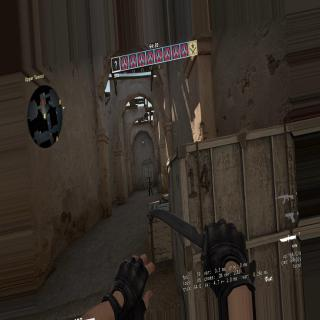CT-Body: (148, 175, 154, 194)
CT-Head: (148, 175, 150, 179)
